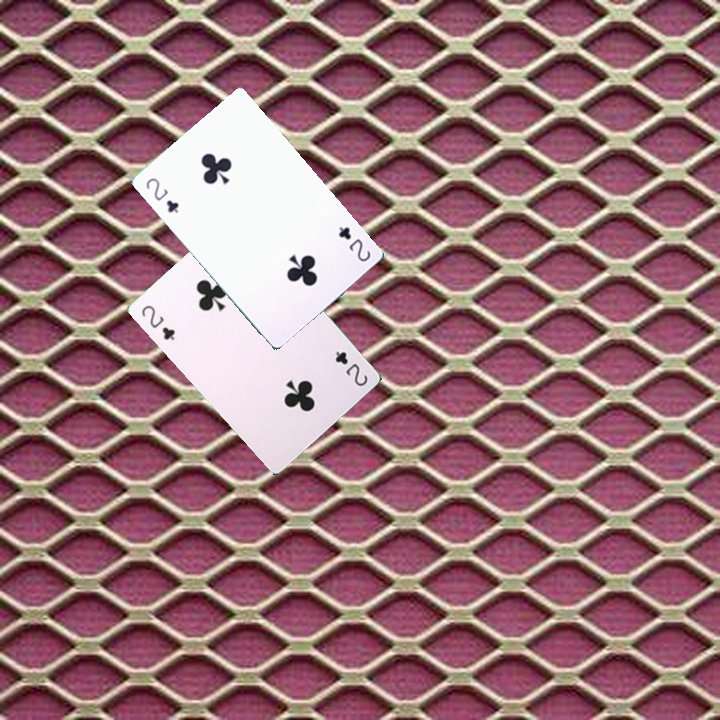2c: (137, 301, 178, 343), (331, 347, 370, 389), (142, 174, 181, 216), (334, 222, 373, 264)
